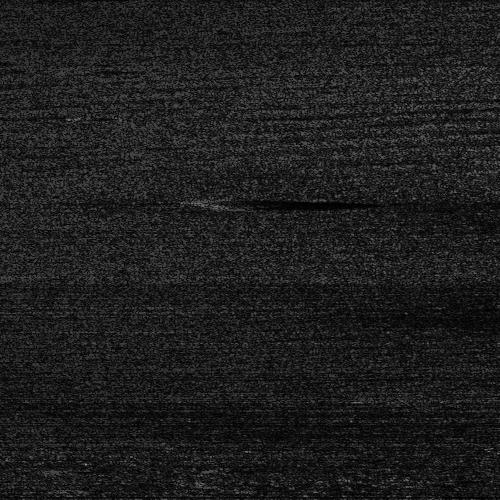rock: (177, 196, 250, 207)
shadow: (214, 196, 310, 207)
